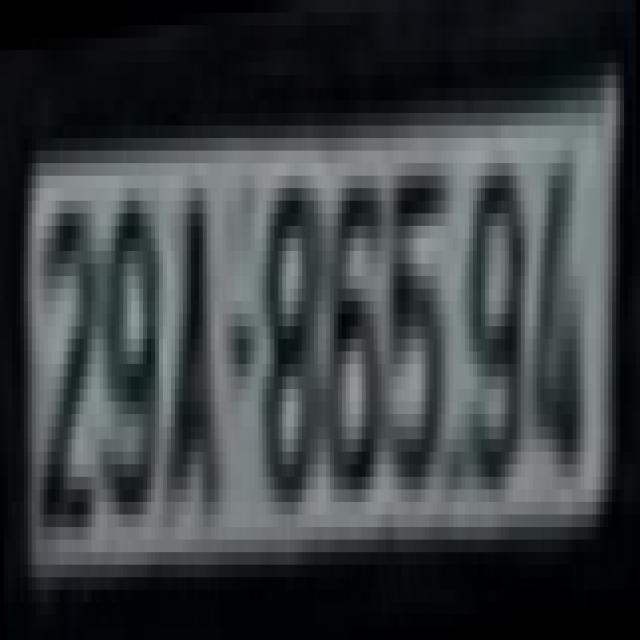2: (40, 201, 95, 527)
4: (533, 150, 584, 477)
5: (390, 163, 449, 490)
6: (330, 176, 382, 489)
8: (262, 176, 322, 502)
9: (465, 150, 525, 490), (103, 188, 159, 515)
A: (163, 176, 223, 527)
